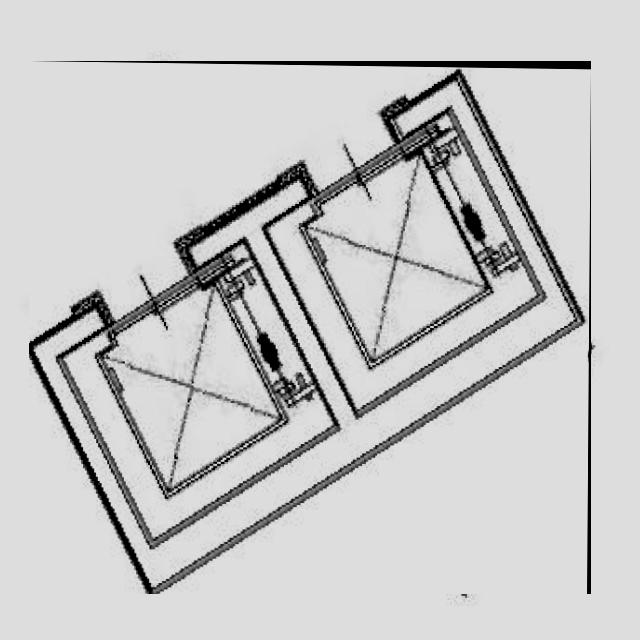lift: (29, 61, 592, 594)
